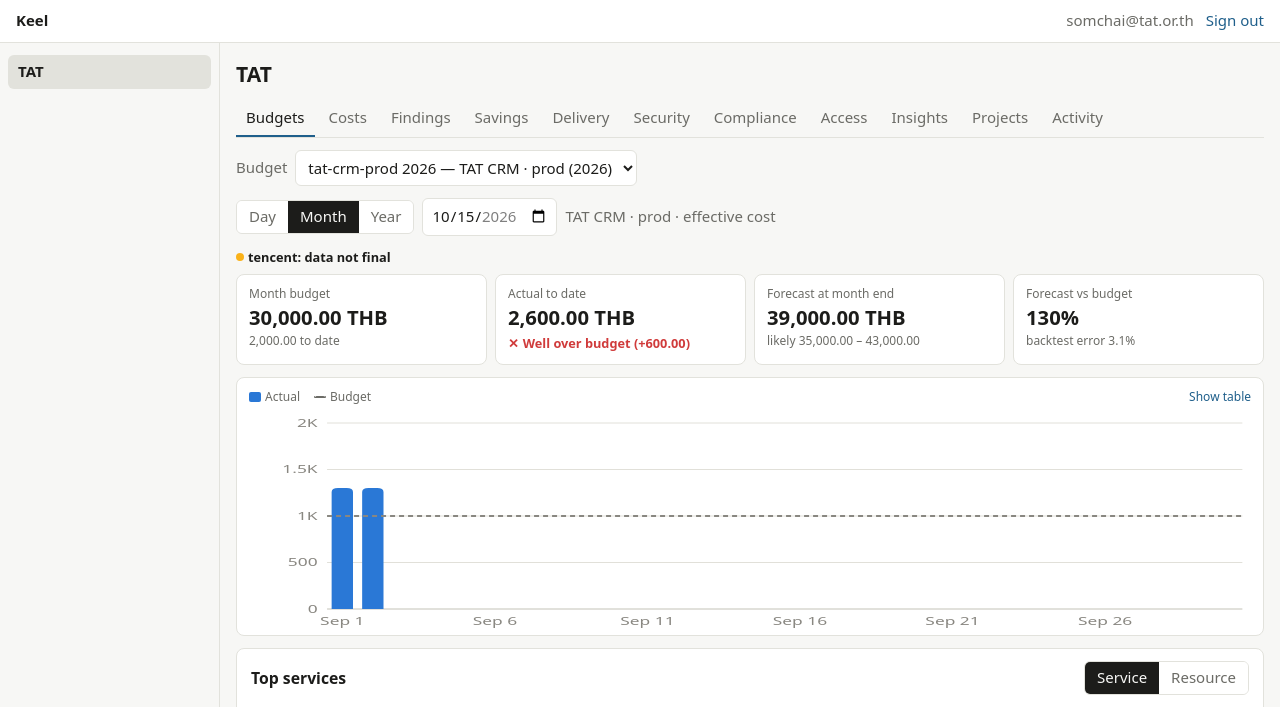
Test: finops screens › costs tab offers a CSV of the tenant's own daily costs
Click the tab "Costs" at (348, 119), box [318, 101, 377, 137]
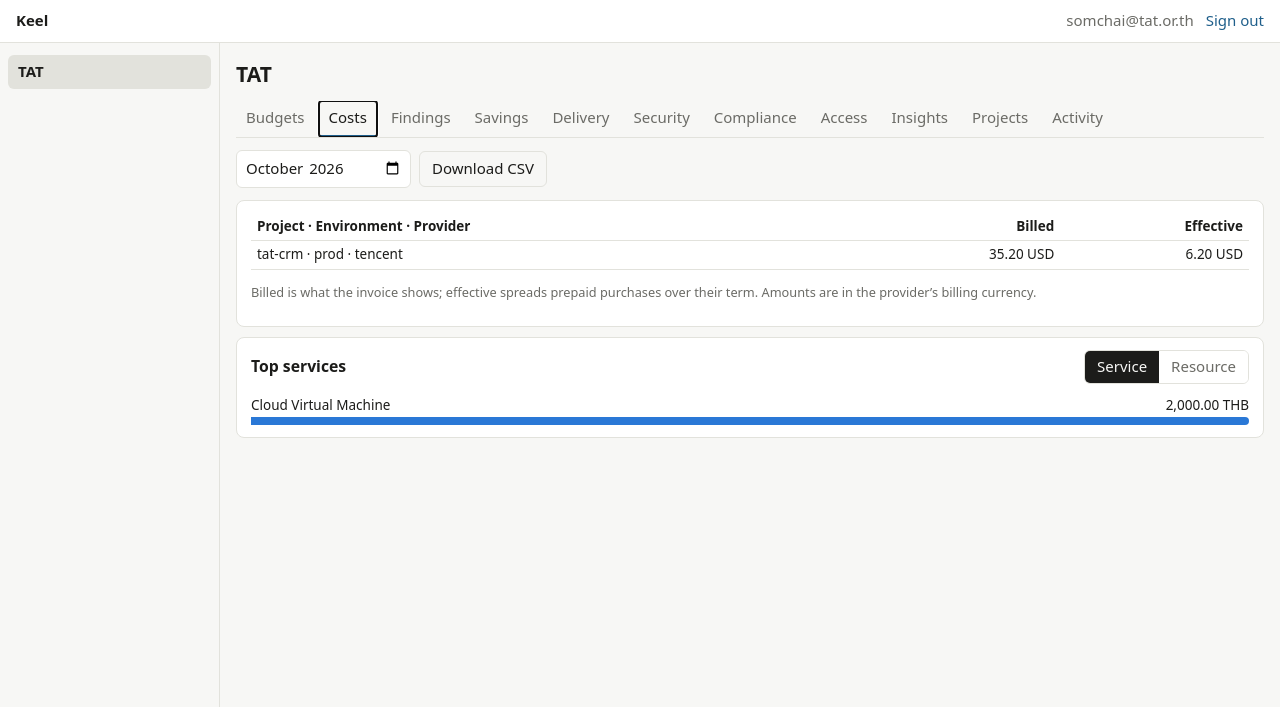
Now the text "tat-crm · prod · tencent" is shown, box [251, 241, 854, 269]
